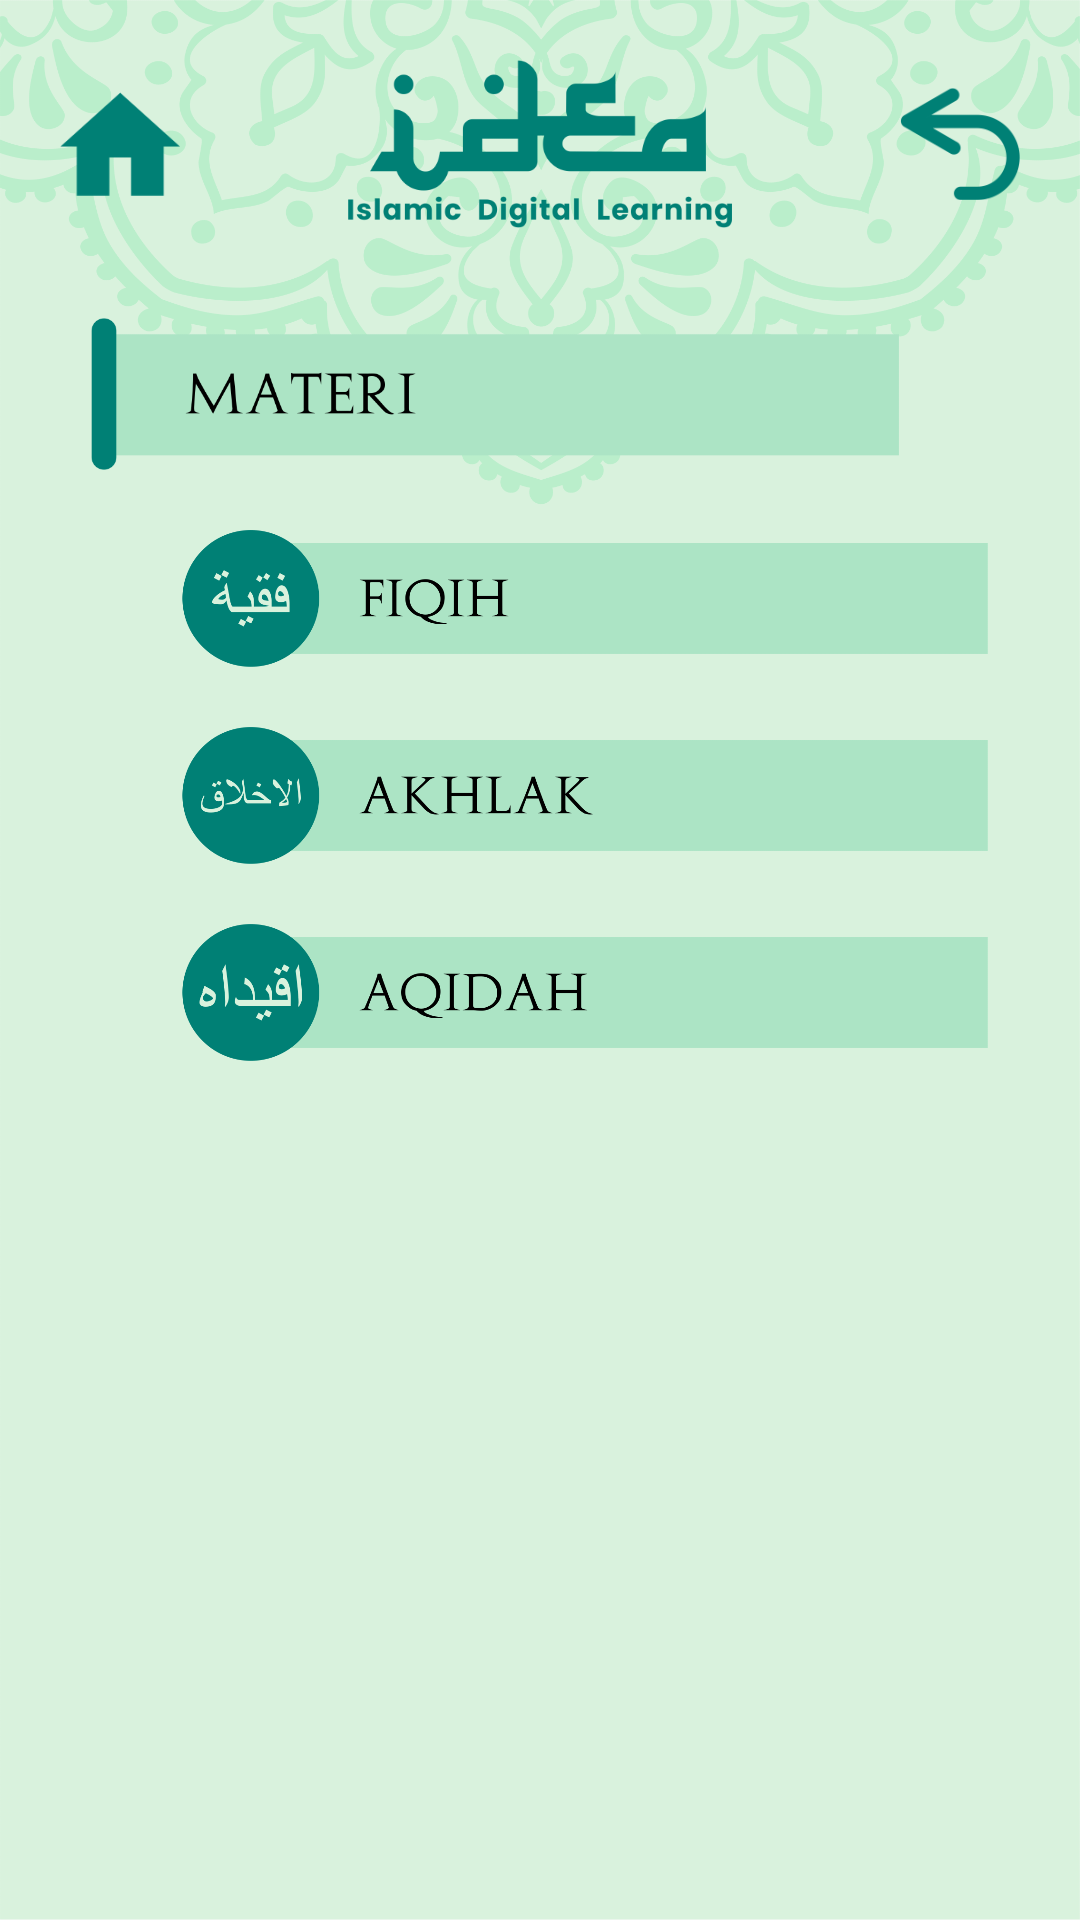

Icons on this 1080 × 1920 Android screen, each with its box as (x1,y1,x2,y2):
back: (900,84,1020,204)
home: (60,84,180,204)
